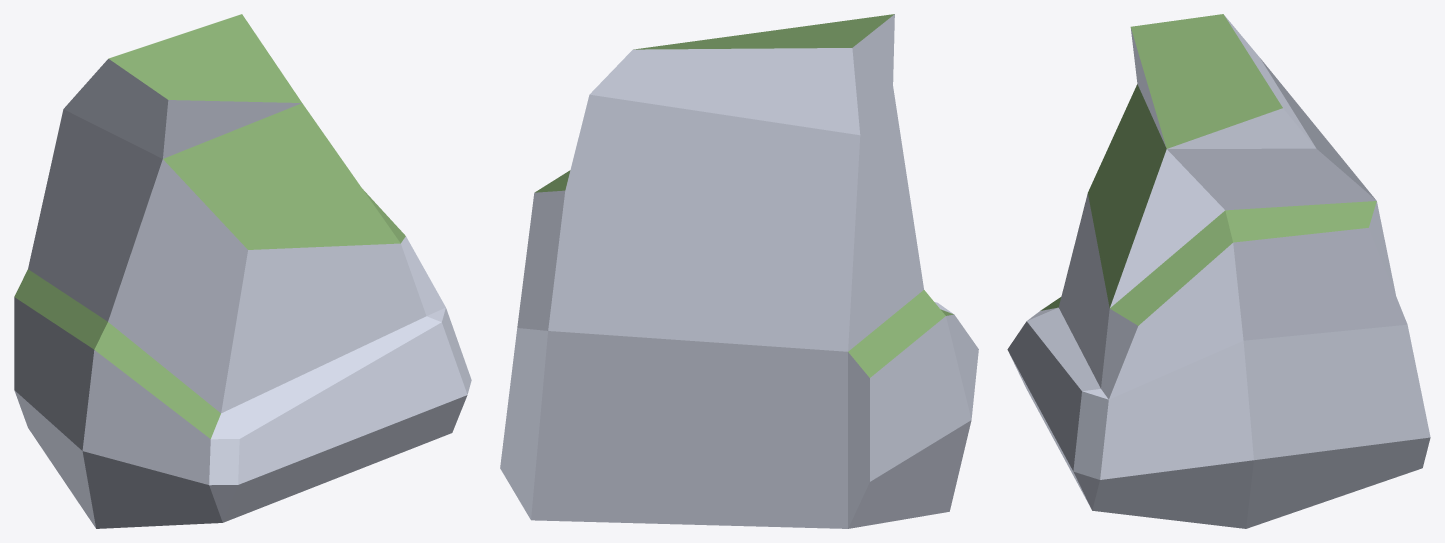
File: rock_moss_2.glb
The picture shows the model from 3 angles, left to right: view 1: azimuth 30°, elevation 25°; view 2: azimuth 150°, elevation 25°; view 3: azimuth 270°, elevation 25°; orthographic projection. The views are drawn at different scales.
Parts seen in each view (by area): view 1: Rock_Moss_2; view 2: Rock_Moss_2; view 3: Rock_Moss_2.
Part boxes in pixels (x1,y1,x2,y2): Rock_Moss_2: [14, 14, 471, 528]; Rock_Moss_2: [500, 14, 978, 528]; Rock_Moss_2: [1007, 14, 1430, 528].
Size of the model in its own units: 0.6125 by 0.6918 by 0.6505.
